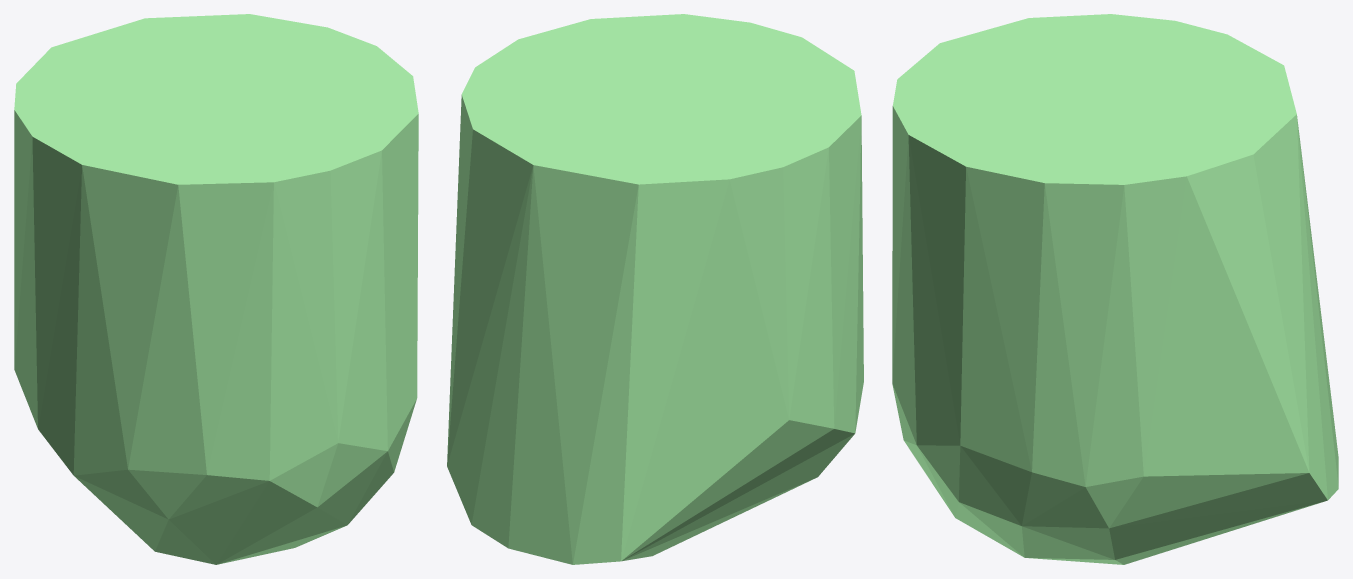
The model's file is dualpanda_Panda_rightArm_link5_respondable_coll_1.dae.
3 views of the same model, side by side, from view 1: azimuth 30°, elevation 25°; view 2: azimuth 150°, elevation 25°; view 3: azimuth 270°, elevation 25° (orthographic).
Parts seen in each view (by area): view 1: node; view 2: node; view 3: node.
Part boxes in pixels (left/top/right/bottom): node: left=14, top=14, right=418, bottom=564; node: left=447, top=14, right=863, bottom=564; node: left=892, top=14, right=1338, bottom=564.
Bounding box in the file's own units: 0.0957 × 0.1127 × 0.1057.
